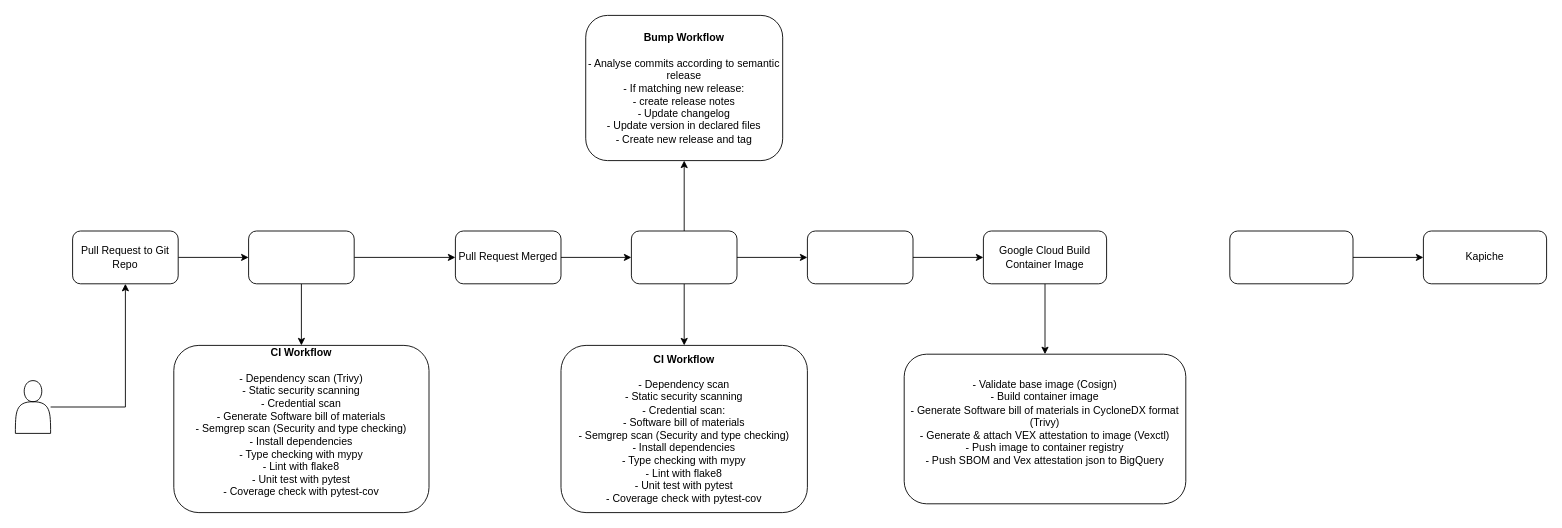
Some shapes in this 1562 by 528 pixel diagram are drawn without their labels. The shapes that lost their labels are listed below. From the top down, each one's centre as x and y in pixels, then its label:
At point (301, 257): "Github Actions CI Workflow".
At point (684, 257): "Github Actions CI and Bump Workflows".
At point (860, 257): "Creates Tag and Updates Changelog".
At point (1291, 257): "BigQuery".
